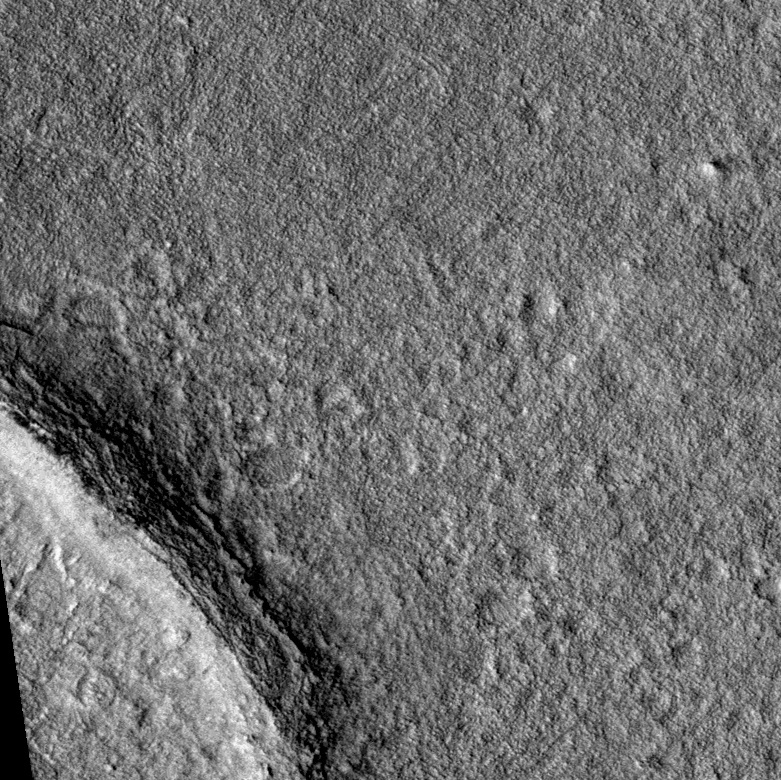dust_devil: (700, 150, 749, 177)
